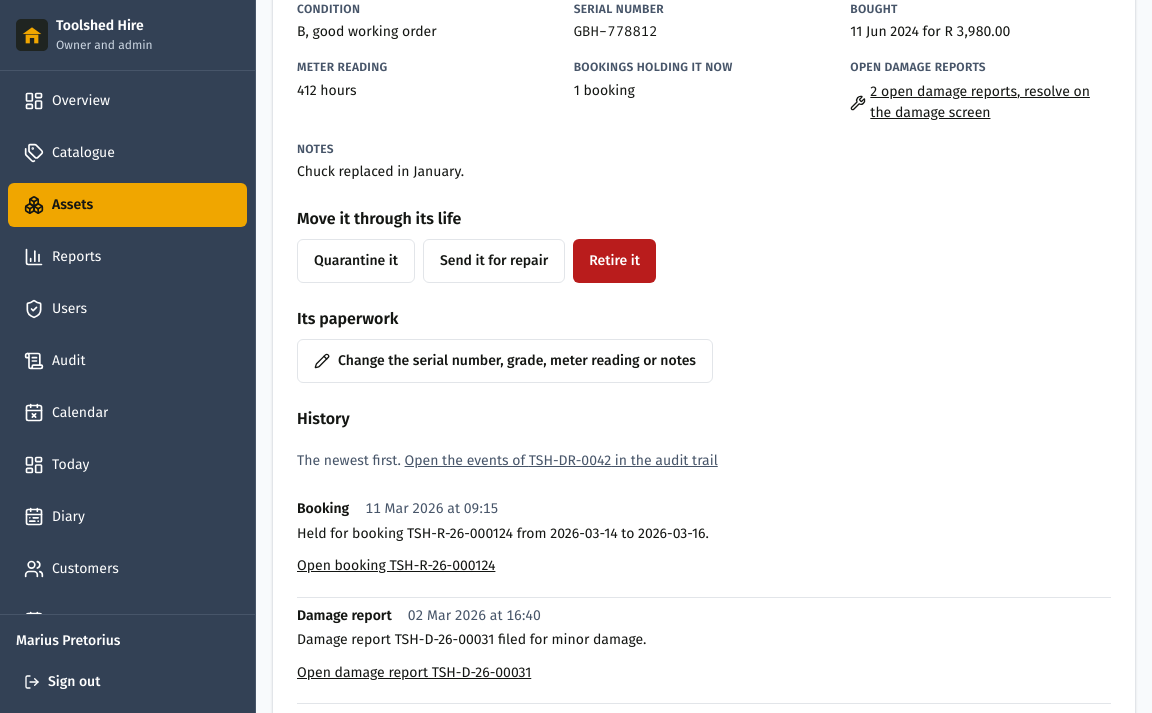
changing the paperwork › sends nothing when nothing changed
(page scrolled)
What coordinates should you click on to do the following:
click the button "Change the serial number, grade, meter reading or notes"
I would click on:
 (505, 361)
Its box is [297,339,713,383].
(page scrolled)
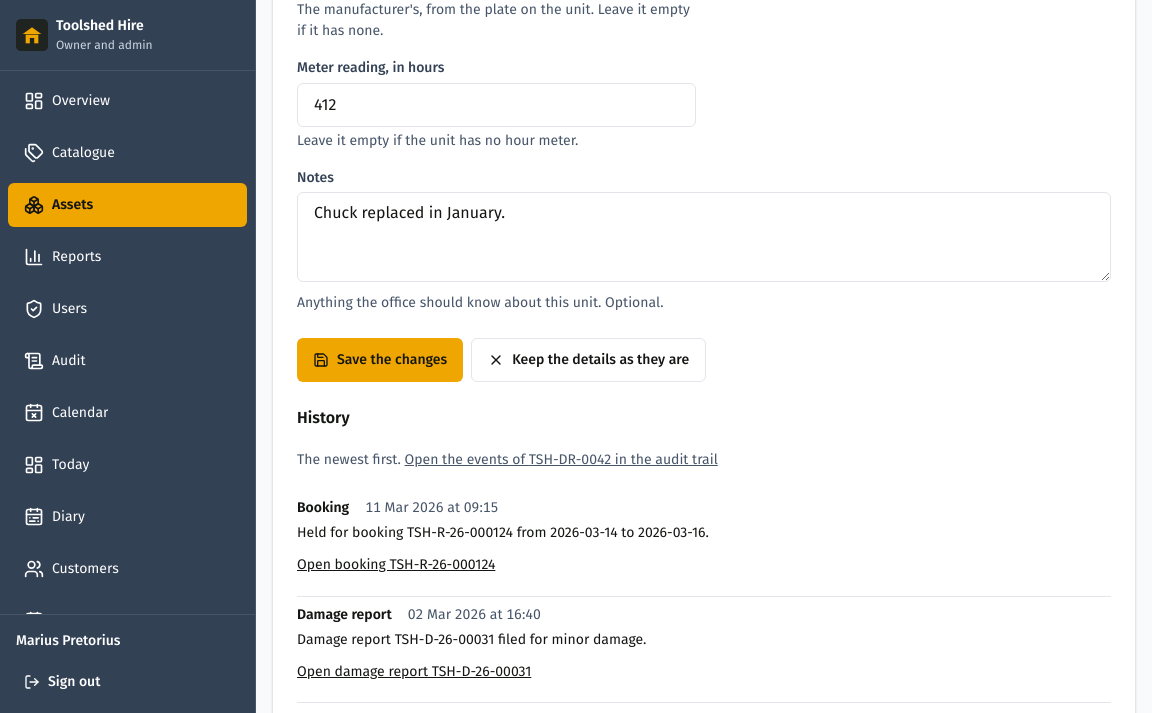
What coordinates should you click on to do the following:
click the button "Save the changes"
I would click on:
 (380, 360)
Its box is [297,338,463,382].
(page scrolled)
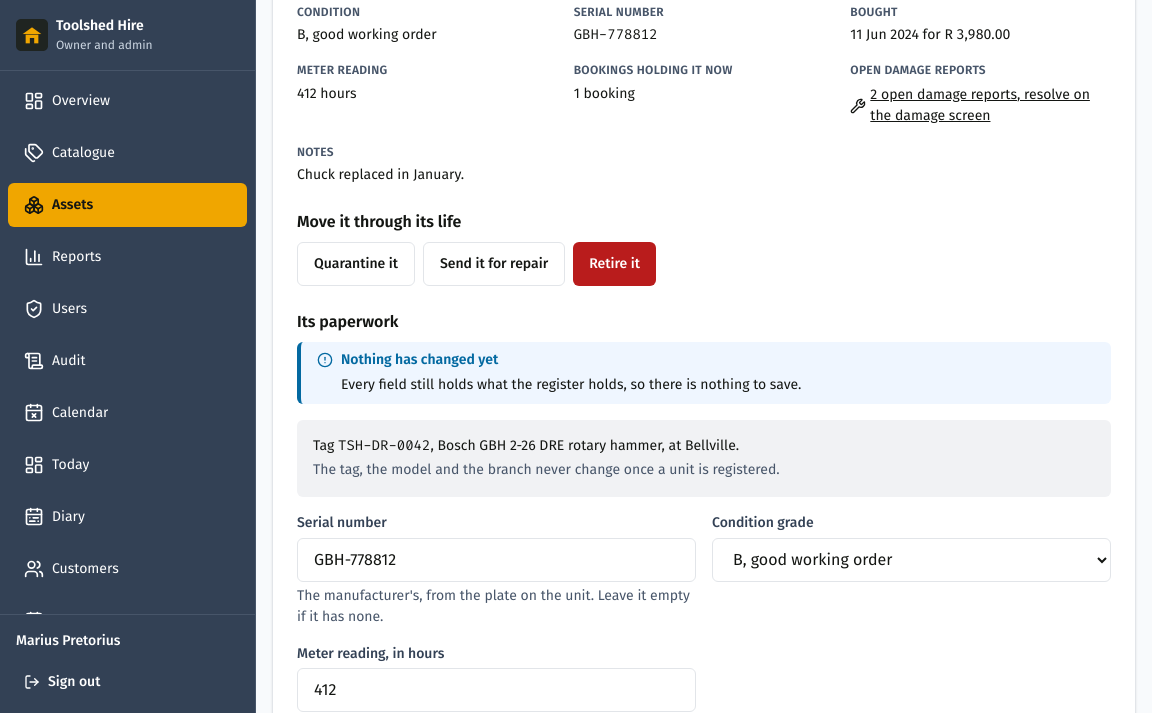
expect the text "Nothing has changed yet" is shown: met, box [341,351,498,368]
